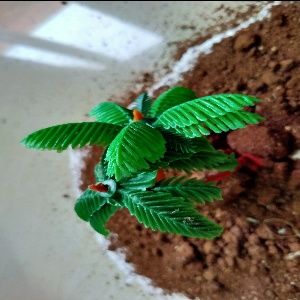plant: (24, 86, 265, 241)
